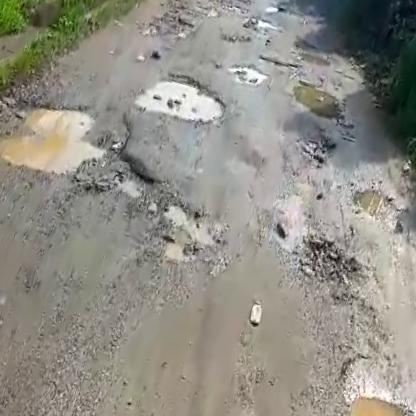pothole: (0, 85, 150, 203), (148, 192, 235, 282), (133, 62, 233, 137), (293, 229, 381, 304), (284, 77, 354, 129), (346, 180, 413, 233), (330, 380, 416, 416), (228, 60, 272, 90), (248, 11, 281, 33)
